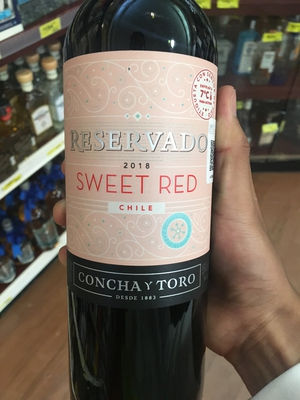reservado sweet red: (57, 6, 222, 400)
